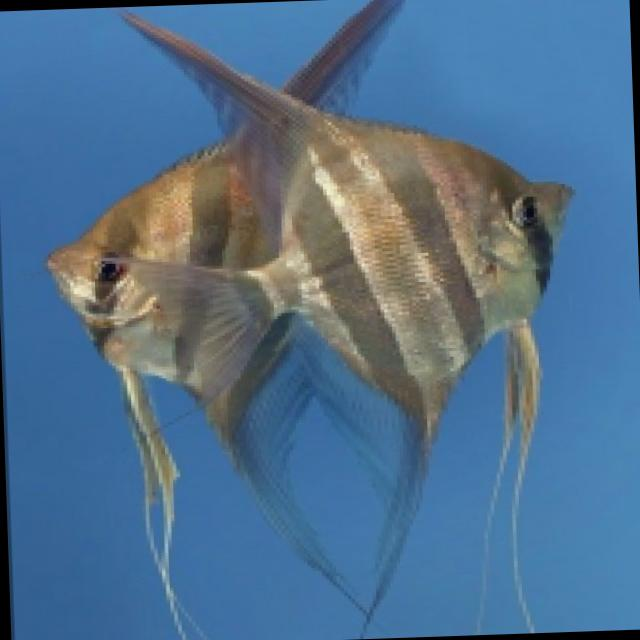AngelFish: (123, 0, 580, 496), (44, 0, 378, 632)
